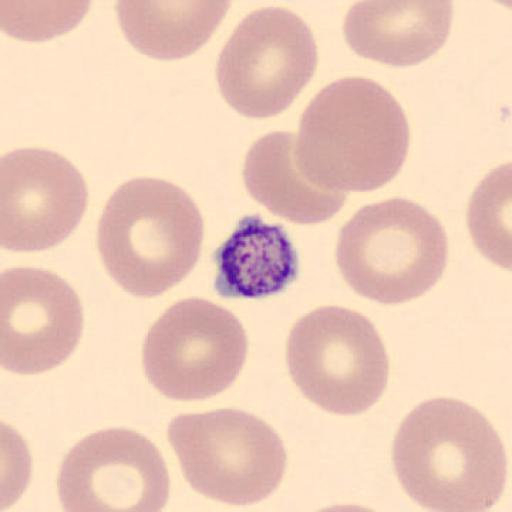Platelet: (209, 211, 304, 301)
RBC: (294, 75, 412, 196), (96, 174, 206, 300), (390, 396, 509, 512), (334, 195, 452, 307), (167, 405, 288, 508), (283, 303, 391, 418), (215, 4, 320, 120), (139, 295, 249, 403), (241, 128, 351, 226), (55, 424, 173, 512), (2, 144, 90, 254), (2, 264, 86, 378), (342, 0, 454, 69), (113, 0, 234, 63), (466, 159, 512, 273), (2, 0, 95, 44), (1, 417, 33, 512), (293, 502, 398, 512)
